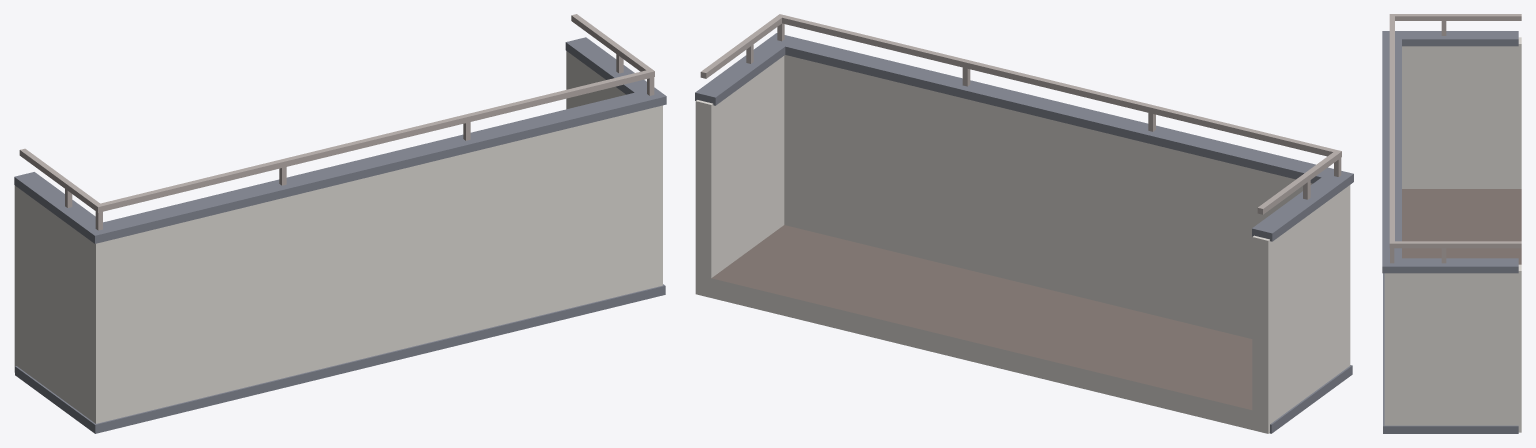
Rendered from SM_Fixture_BalconyFull_White_364_01.gltf.
3 views of the same model, side by side, from view 1: azimuth 30°, elevation 25°; view 2: azimuth 150°, elevation 25°; view 3: azimuth 270°, elevation 25° (orthographic). The views are drawn at different scales.
Visible parts, largest first — view 1: SM_Fixture_BalconyFull_White_364_01; view 2: SM_Fixture_BalconyFull_White_364_01; view 3: SM_Fixture_BalconyFull_White_364_01.
Part boxes in pixels (left/top/right/bottom): SM_Fixture_BalconyFull_White_364_01: left=14, top=14, right=666, bottom=433; SM_Fixture_BalconyFull_White_364_01: left=695, top=14, right=1353, bottom=433; SM_Fixture_BalconyFull_White_364_01: left=1382, top=14, right=1521, bottom=433.
Size of the model in its own units: 3.66 by 1.36 by 0.915.
1 material, 1 textured.
